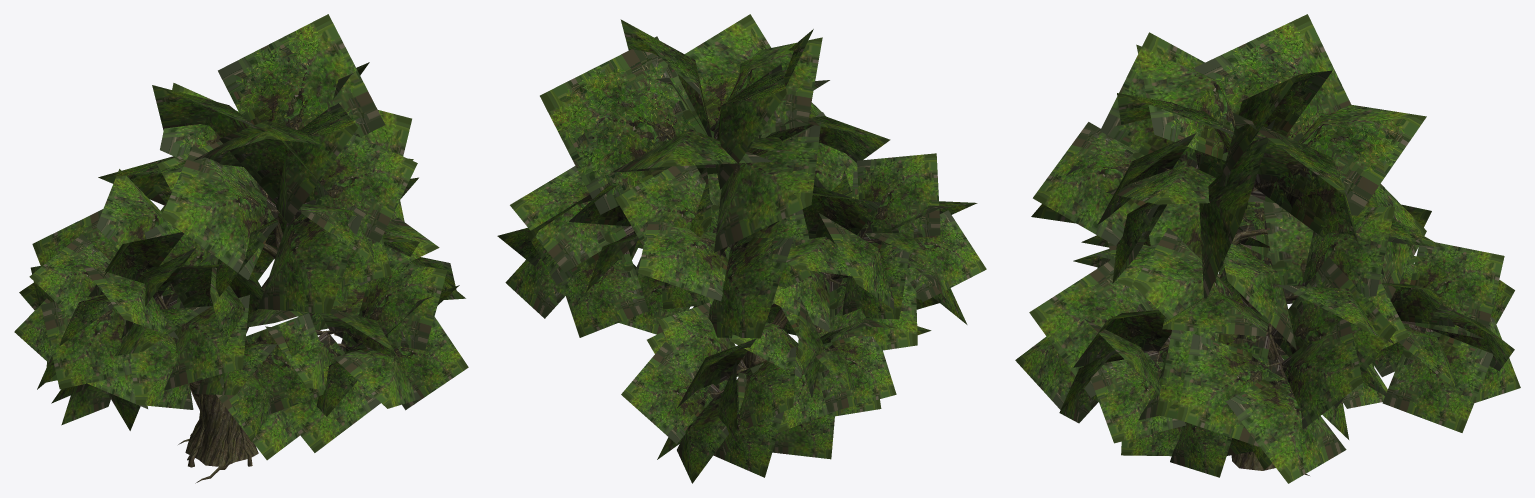
The model's file is cmc_shu07.FBX.
3 views of the same model, side by side, from view 1: azimuth 30°, elevation 25°; view 2: azimuth 150°, elevation 25°; view 3: azimuth 270°, elevation 25° (orthographic). The views are drawn at different scales.
Parts seen in each view (by area): view 1: cmc_shuye_c, cmc_shugan_c; view 2: cmc_shuye_c, cmc_shugan_c; view 3: cmc_shuye_c, cmc_shugan_c.
Boxes of the visible parts, <box> form: cmc_shuye_c: <box>14,14,468,460</box>; cmc_shugan_c: <box>157,195,366,483</box>; cmc_shuye_c: <box>497,14,986,483</box>; cmc_shugan_c: <box>712,136,874,396</box>; cmc_shuye_c: <box>1015,14,1520,483</box>; cmc_shugan_c: <box>1159,168,1430,475</box>.
Bounding box in the file's own units: 2524 × 2200 × 2203.
